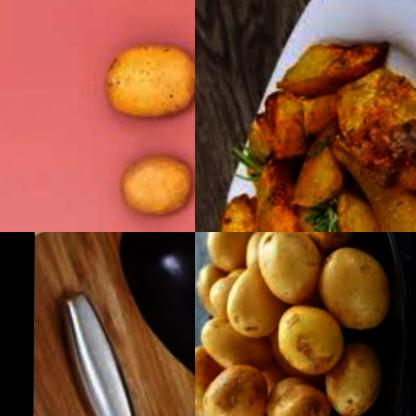eggplant: (126, 232, 195, 411)
potato: (210, 5, 416, 232), (96, 36, 195, 129), (314, 245, 401, 329), (114, 144, 195, 228), (273, 297, 345, 377), (316, 338, 388, 416), (222, 262, 287, 343), (255, 232, 323, 306), (196, 318, 272, 374), (195, 362, 268, 416), (262, 367, 330, 416), (201, 232, 266, 272), (195, 255, 232, 315), (299, 232, 357, 254)
